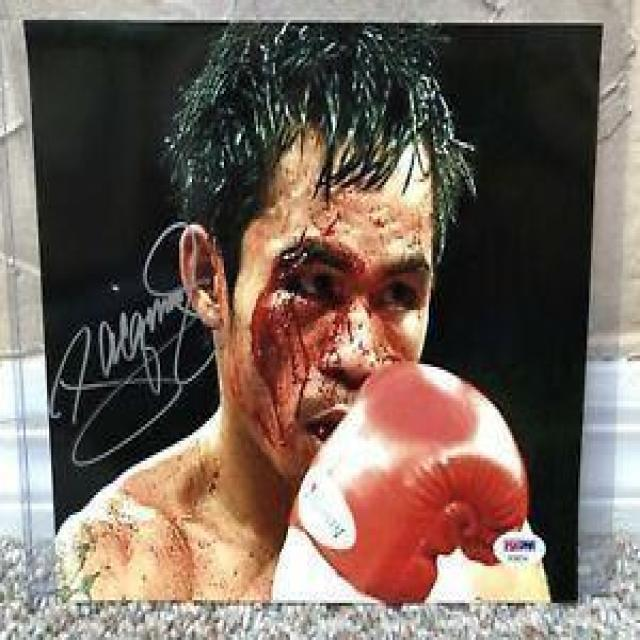flood: (247, 237, 313, 448)
